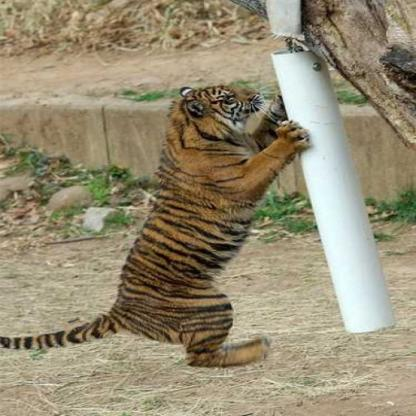Tiger: (0, 71, 322, 392)
